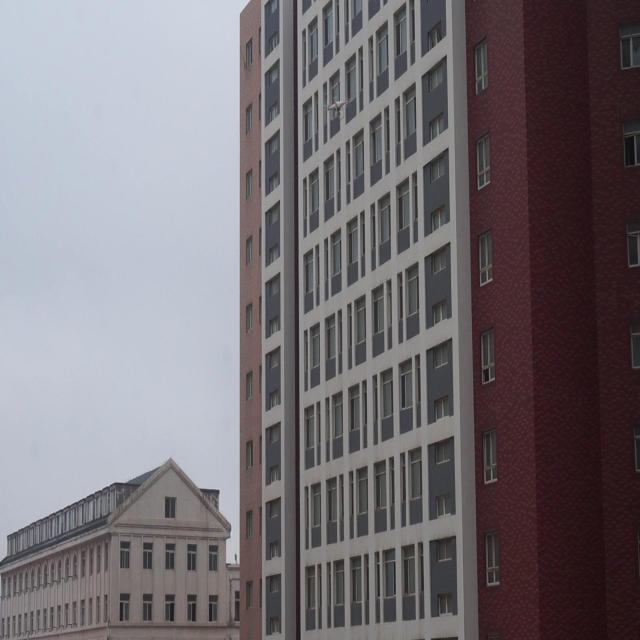drone: (324, 95, 348, 120)
